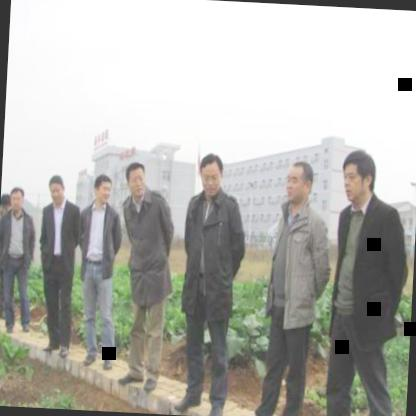head: (337, 146, 378, 208), (283, 156, 316, 207), (194, 150, 228, 198), (122, 156, 150, 200), (90, 170, 115, 205), (46, 172, 69, 204), (8, 186, 26, 209), (0, 192, 10, 218)
